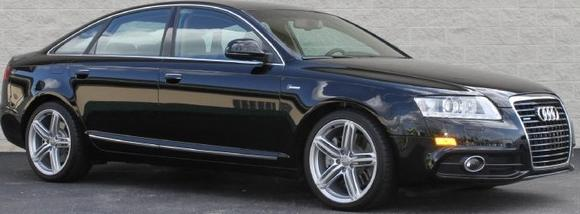front_view: (398, 86, 579, 187)
headlight: (409, 85, 505, 130)
side_glass: (56, 6, 273, 66)
